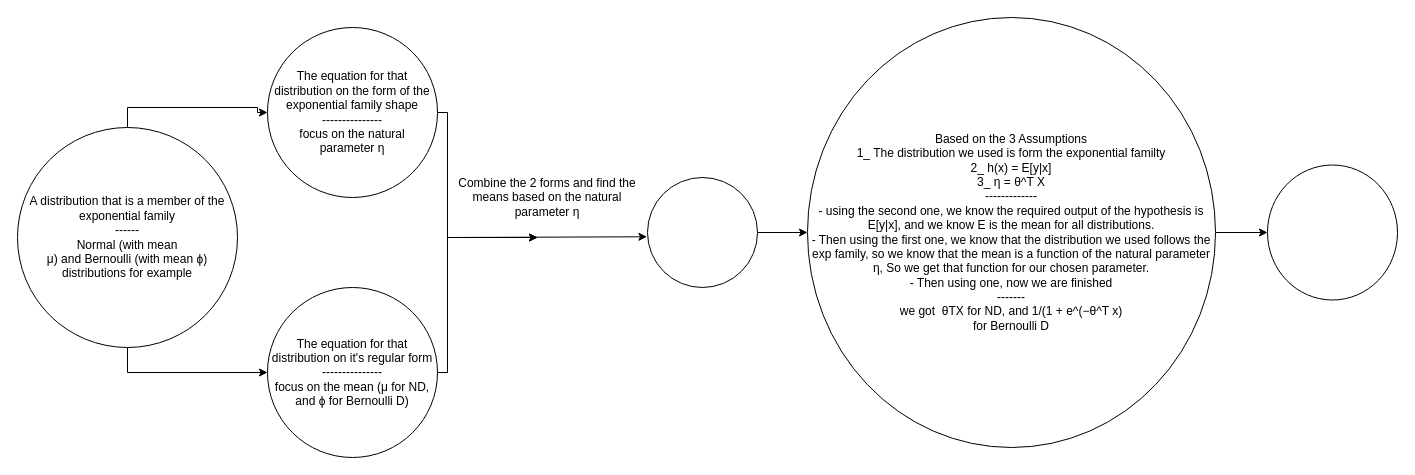
Some shapes in this 1415 by 475 pixel diagram are drawn without their labels. Each missing label, with the centre of its shape:
Now we got the mean a function of the natural parameter η: (702,232)
The logistic function seems to be natural parameter here: (1332,232)
